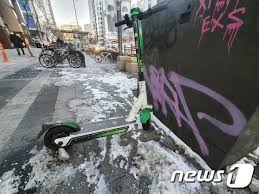kick_board: (44, 5, 167, 147)
kick_body: (75, 115, 128, 134)
kick_handler: (114, 4, 168, 28)
kick_neck: (133, 28, 147, 104)
kick_wheel: (41, 122, 74, 148), (141, 108, 151, 130)
